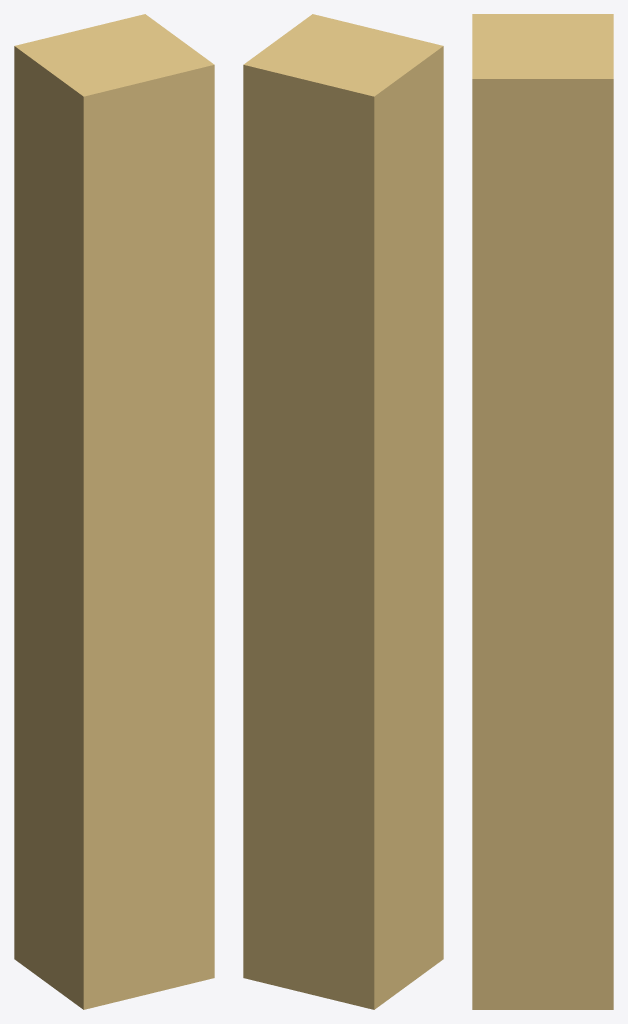
The model's file is SalleGardes_Coin01.fbx.
The picture shows the model from 3 angles, left to right: view 1: azimuth 30°, elevation 25°; view 2: azimuth 150°, elevation 25°; view 3: azimuth 270°, elevation 25°; orthographic projection.
Visible parts, largest first — view 1: Coin01; view 2: Coin01; view 3: Coin01.
Boxes of the visible parts, x1=… form: Coin01: x1=14, y1=14, x2=214, y2=1009; Coin01: x1=243, y1=14, x2=443, y2=1009; Coin01: x1=472, y1=14, x2=613, y2=1009.
Bounding box in the file's own units: 0.9728 × 6.49 × 0.8923.
